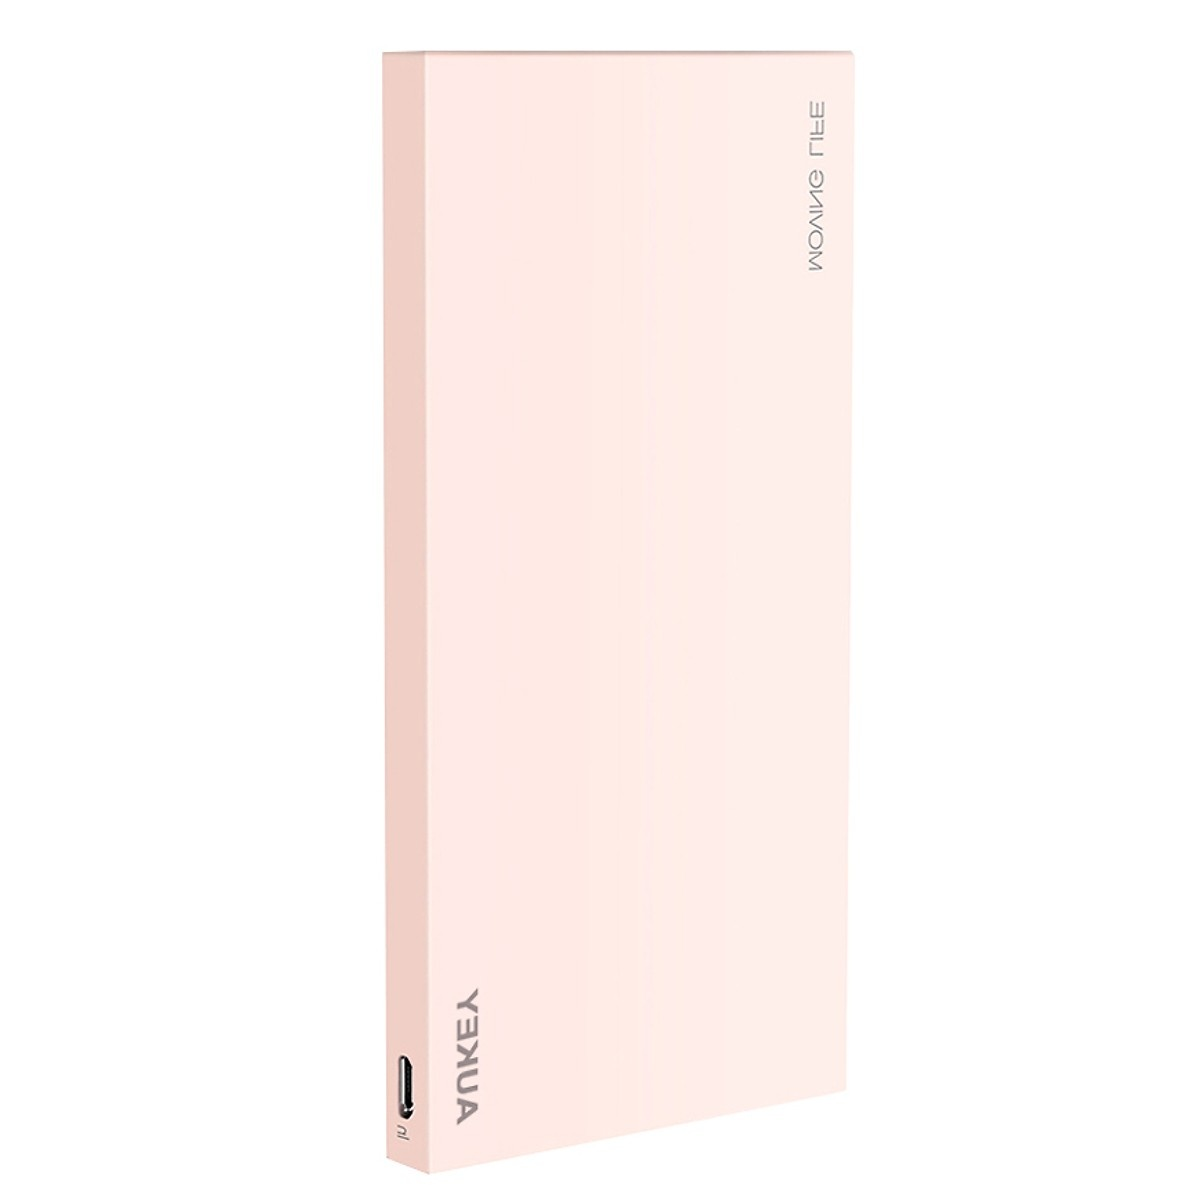Aukey: (363, 951, 584, 1162)
